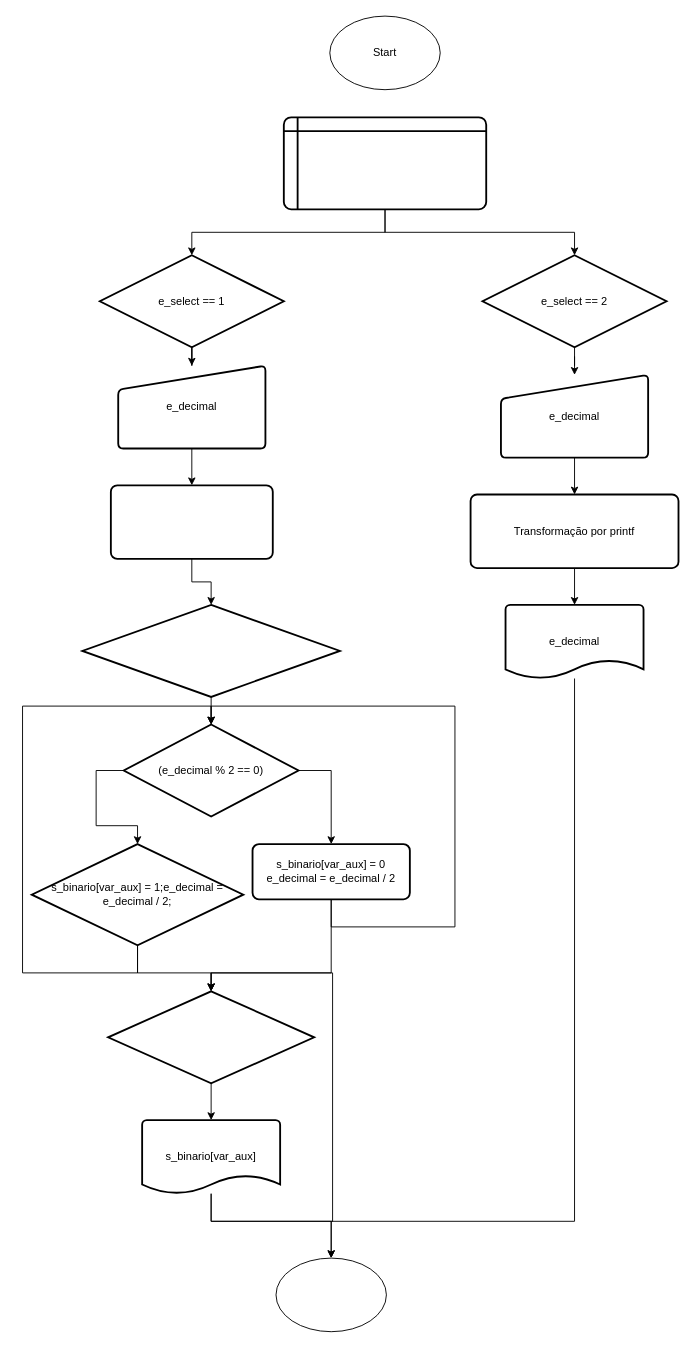
Some shapes in this 696 by 1348 pixel diagram are drawn without their labels. The box of each missing label's shape, as (x1, y1, x2, y2) in pixels:
e_select, e_decimal, var_aux: (282, 116, 487, 210)
End: (275, 1257, 386, 1332)
for (var_aux = 0; var_aux <= 7; var_aux++): (107, 990, 315, 1084)
for (var_aux = 7; var_aux >= 0; var_aux--): (81, 604, 340, 697)
int s_binario[7]: (109, 484, 273, 559)
